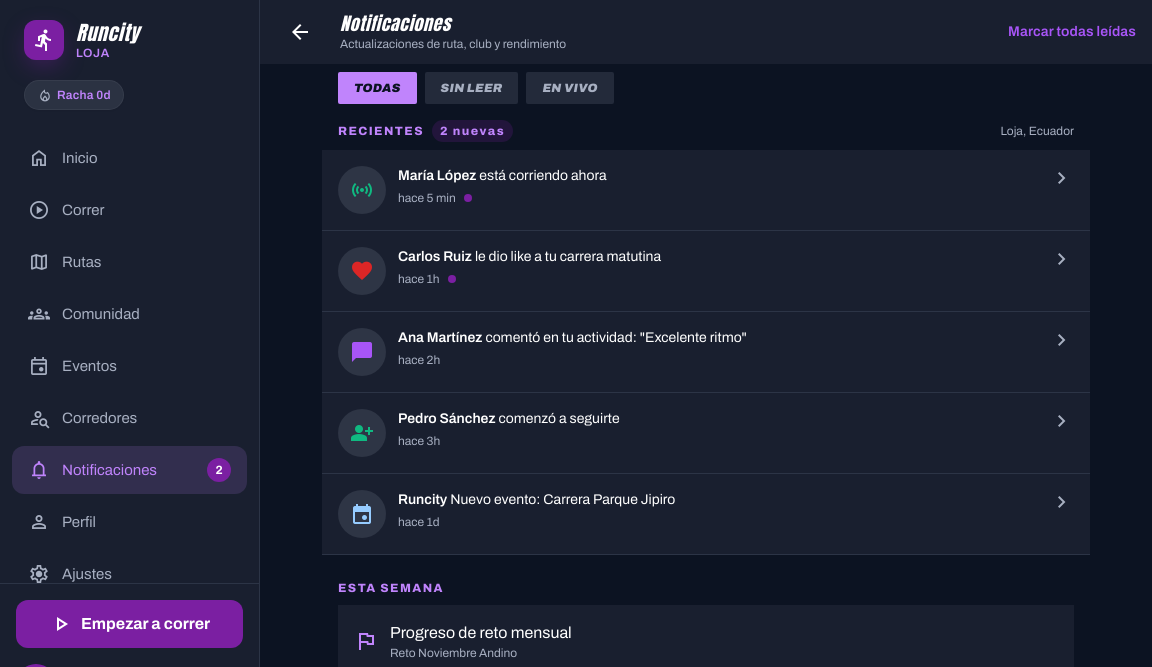
Test: notificaciones › filtra, marca leidas y abre el destino
Click the tab "En vivo": {"x": 570, "y": 88} [526,72,614,104]
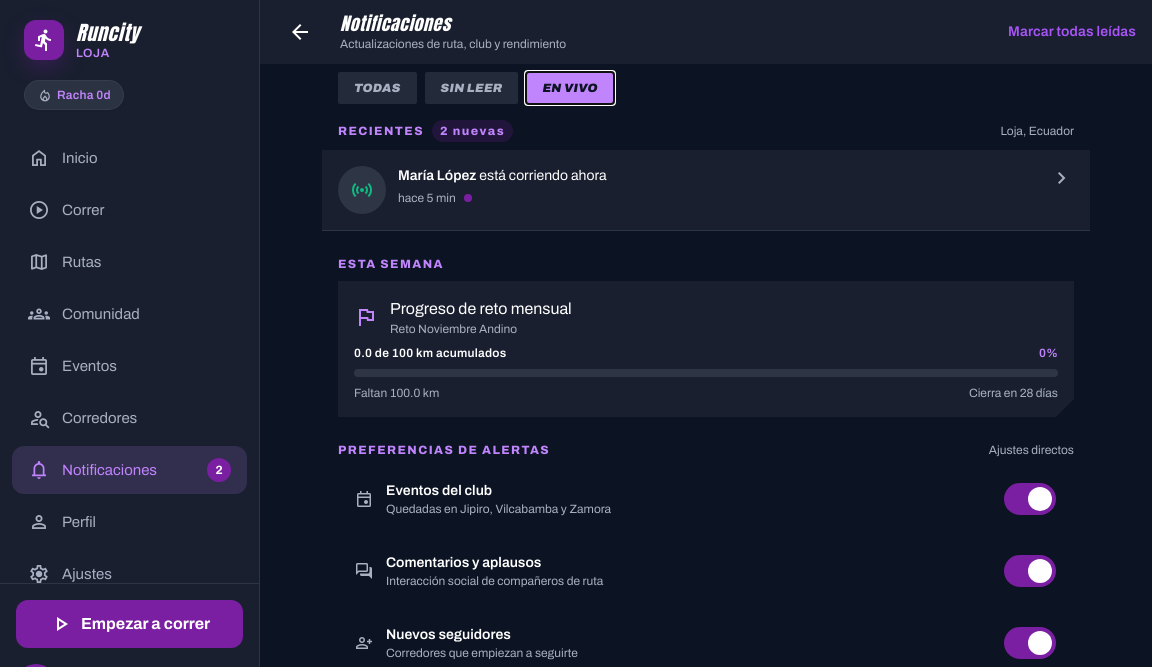
Expected: the number of buttons with test id "notificacion" is 1, [322,150,1090,231]
Click the tab "Todas": {"x": 377, "y": 88} [338,72,417,104]
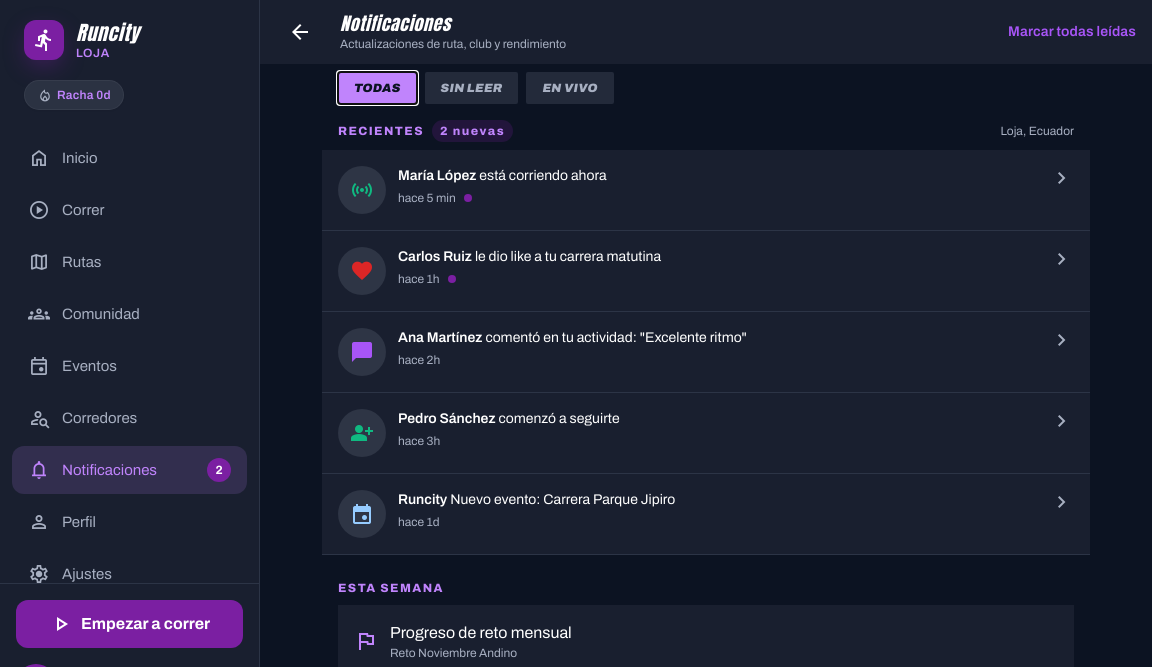
Click the button "Marcar todas leídas": {"x": 1072, "y": 32} [1008,14,1136,50]
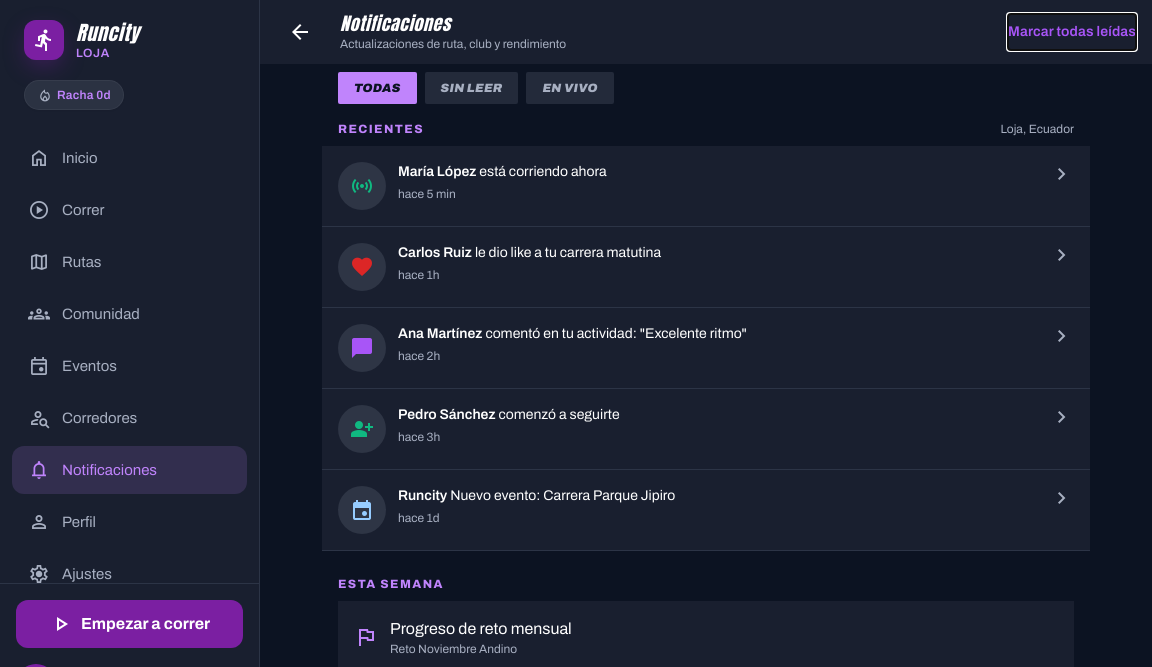
Click the tab "Sin leer": {"x": 472, "y": 88} [425,72,518,104]
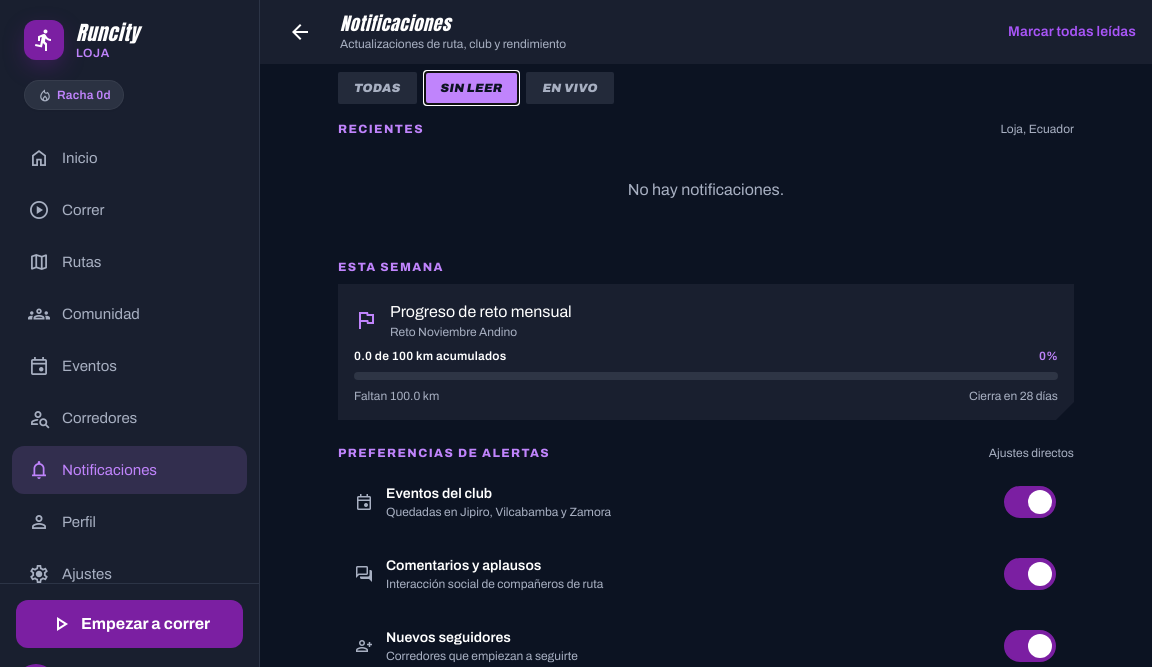
Expected: the text "No hay notificaciones." is shown, [628,181,784,198]
Click the tab "Todas": {"x": 377, "y": 88} [338,72,417,104]
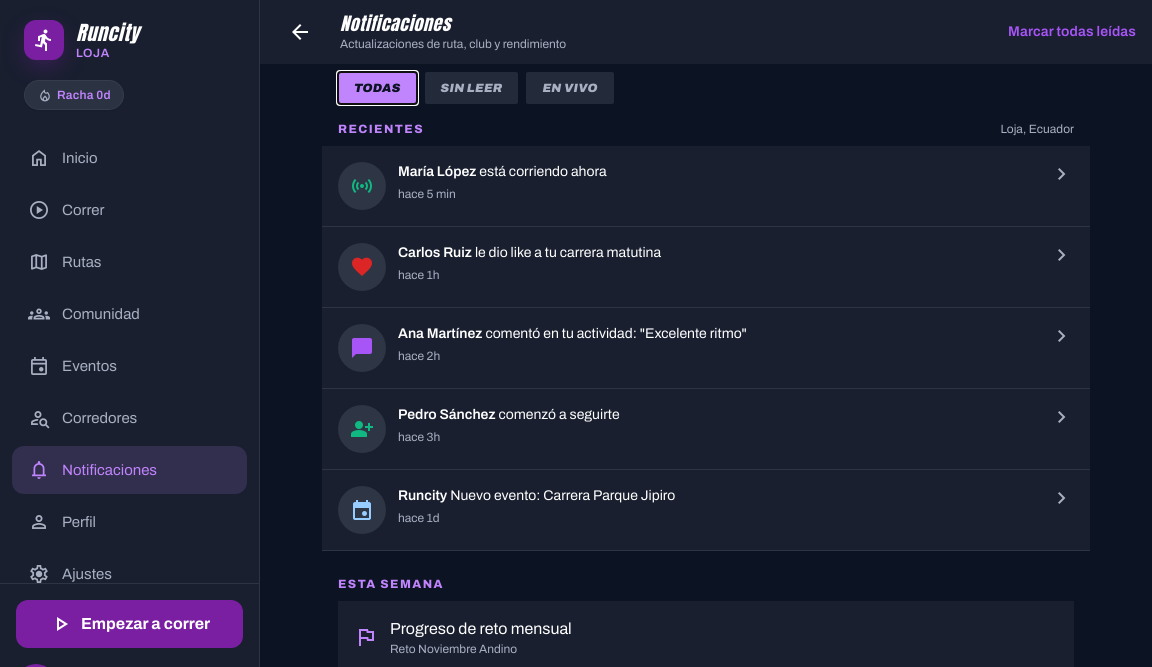
Click the button with test id "notificacion": {"x": 362, "y": 186} [322,146,1090,227]
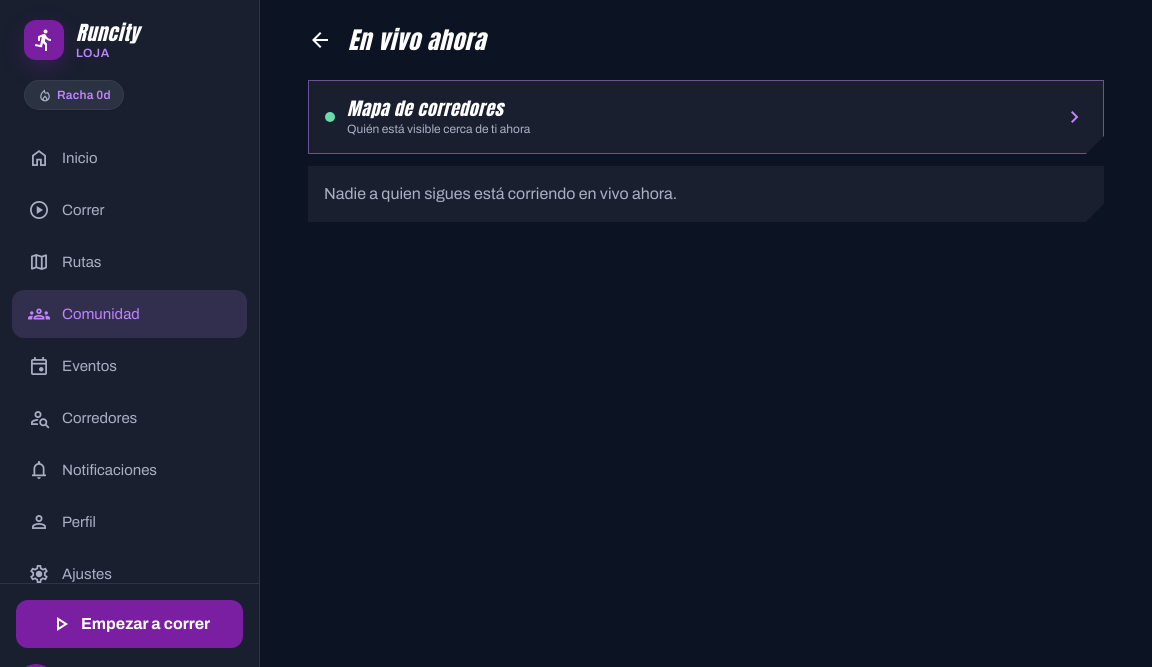
Expected: the heading "En vivo ahora" is shown, [348,22,486,58]
